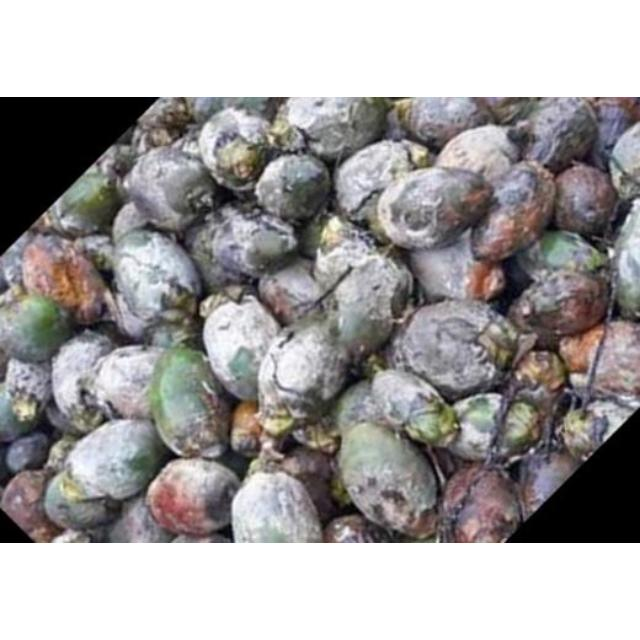damaged: (388, 298, 516, 402), (335, 421, 441, 539), (464, 161, 560, 263), (258, 320, 354, 422), (374, 166, 490, 250), (147, 347, 233, 458), (109, 229, 205, 327), (325, 252, 411, 360), (64, 419, 170, 505), (22, 234, 114, 326), (121, 146, 217, 234), (144, 456, 243, 538), (201, 298, 279, 402), (331, 140, 425, 226), (508, 268, 610, 342), (204, 205, 300, 283), (48, 331, 120, 433), (405, 232, 503, 306), (367, 368, 457, 448), (196, 105, 278, 191), (437, 463, 525, 542), (447, 391, 543, 463), (512, 97, 600, 173), (282, 98, 386, 162), (89, 344, 167, 424), (262, 446, 342, 522), (253, 154, 330, 223), (432, 126, 522, 184), (48, 168, 122, 238), (550, 163, 618, 239), (578, 321, 640, 404), (1, 296, 74, 366), (515, 446, 579, 520), (401, 97, 492, 149), (43, 470, 119, 532), (519, 230, 609, 282), (256, 262, 328, 324), (1, 469, 63, 541), (557, 404, 607, 461), (107, 288, 157, 344), (0, 381, 44, 444), (191, 98, 275, 126), (1, 234, 34, 296), (322, 514, 388, 544), (4, 434, 50, 476)
